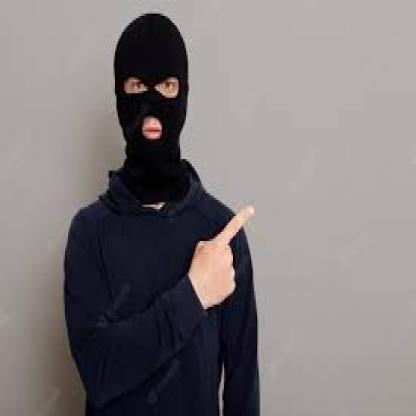criminal: (64, 13, 261, 416)
